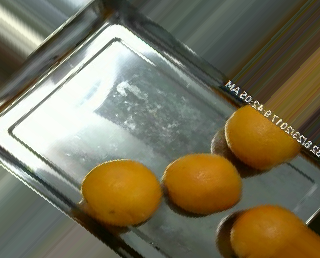Orange: (82, 158, 162, 224), (163, 152, 238, 220), (226, 105, 301, 171), (228, 206, 319, 255)
